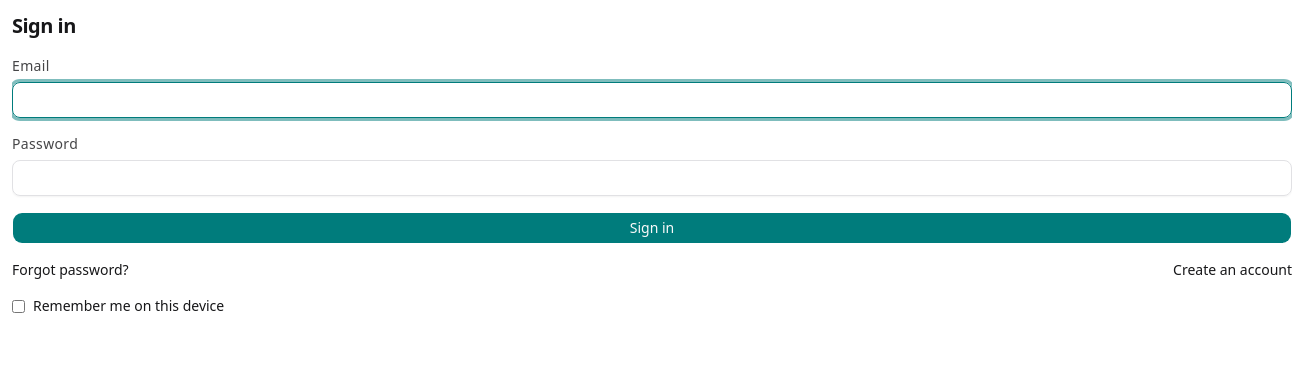
Login page › renders the resend-verification link on EMAIL_NOT_CONFIRMED
The width and height of the screenshot is (1304, 378).
In the field labelled "Email": coordinates (652, 100) [12, 82, 1292, 118], type "a@b.test"
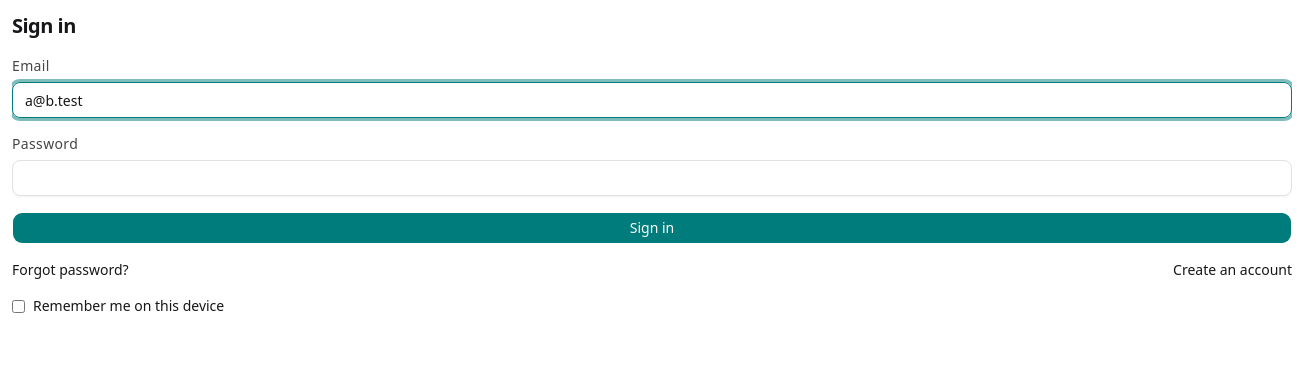
In the password field labelled "Password": coordinates (652, 178) [12, 160, 1292, 196], type "pw"
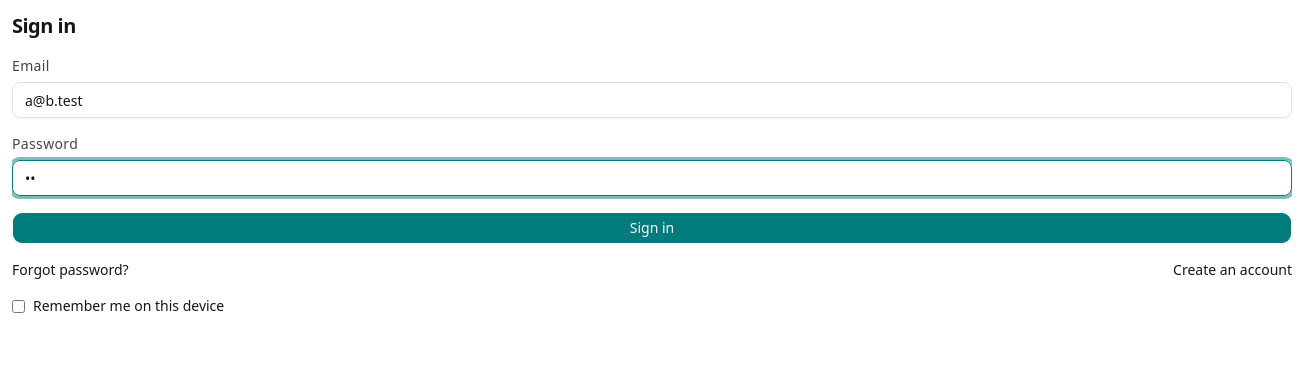
Click the button "Sign in": coordinates (652, 228) [12, 212, 1292, 244]
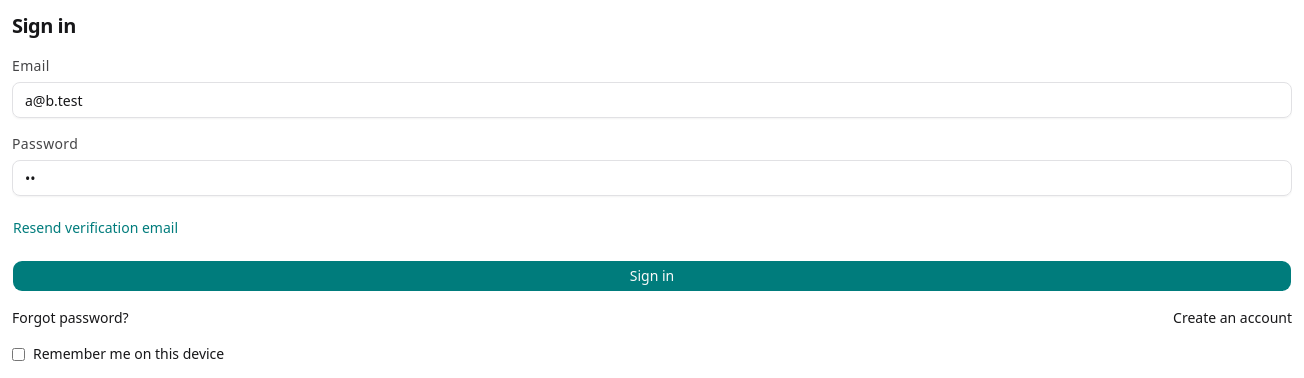
Expected: the button "Resend verification email" is shown, [12, 212, 179, 244]
